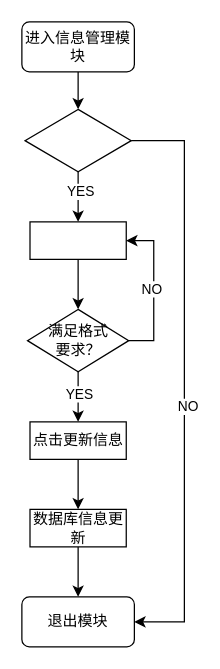
The diagram is 220 pixels wide and 669 high, and some of its shapes have lost their labels. Here are the shapes that lost their labels. From the top down, the box of each, then its label:
(24, 108, 131, 172): 修改信息？
(29, 221, 126, 259): 修改信息选项
